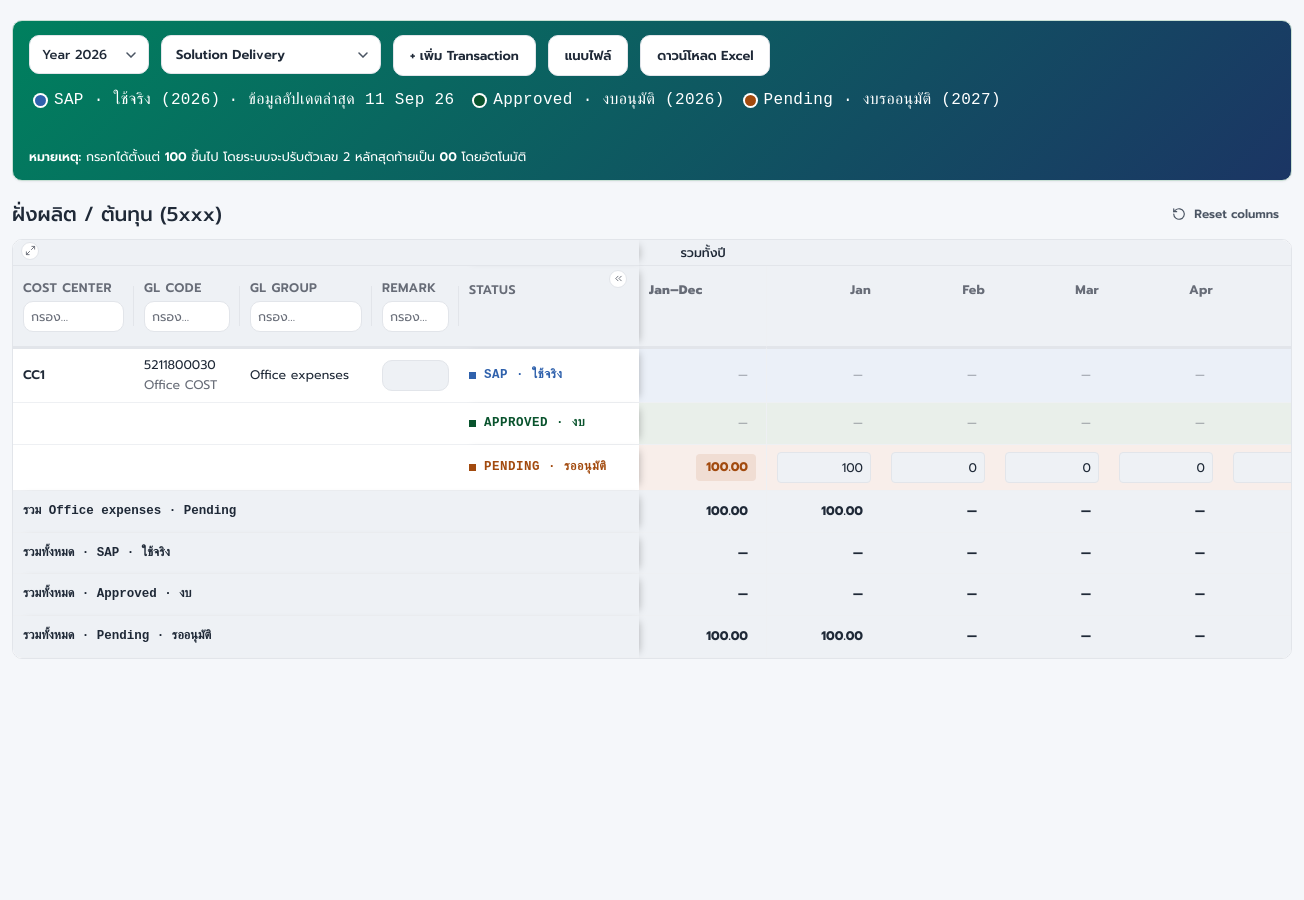
Test: BudgetGrid › on a 409 conflict, refetches the grid and shows a clear Thai message without overwriting silently
Replace the text in the field with test id "pending-input-CC1-5211800030-m01" with "999". click: (824, 467)
box: left=777, top=452, right=871, bottom=483
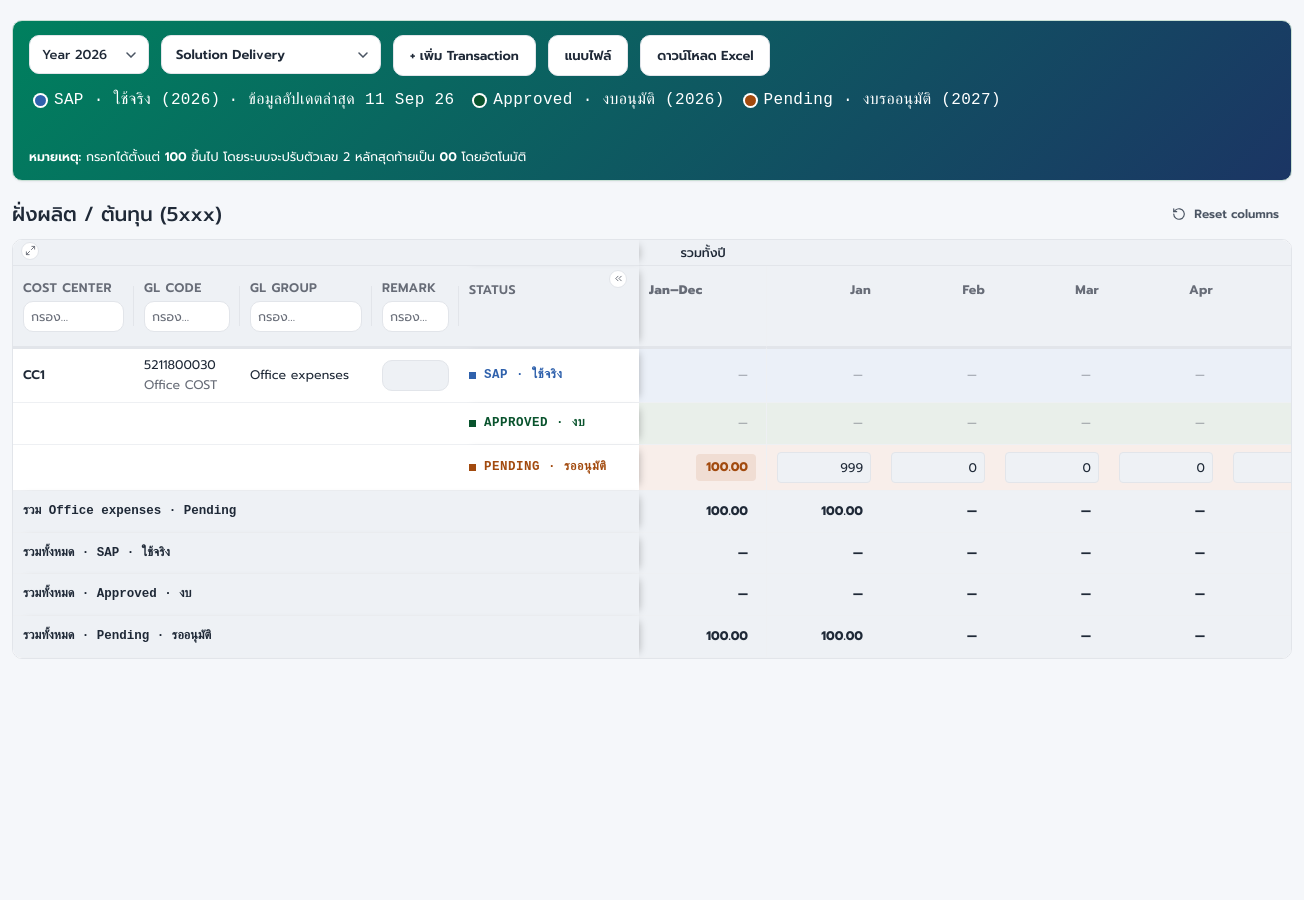
Leave the field with test id "pending-input-CC1-5211800030-m01", box left=777, top=452, right=871, bottom=483
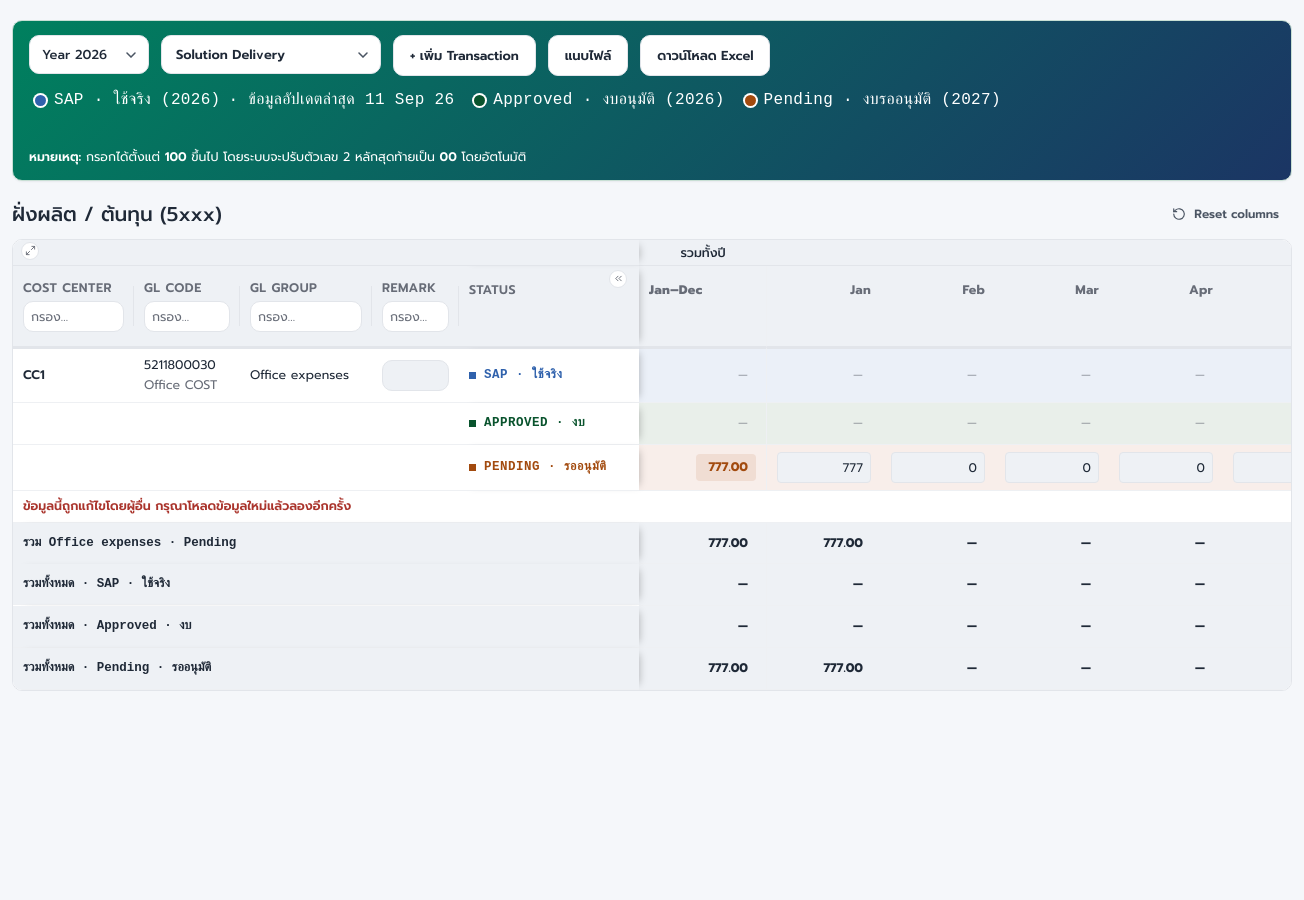
Expected: the text "ถูกแก้ไขโดยผู้อื่น" is shown, left=23, top=496, right=351, bottom=515
Expected: the field with test id "pending-input-CC1-5211800030-m01" holds "777", left=777, top=452, right=871, bottom=483
